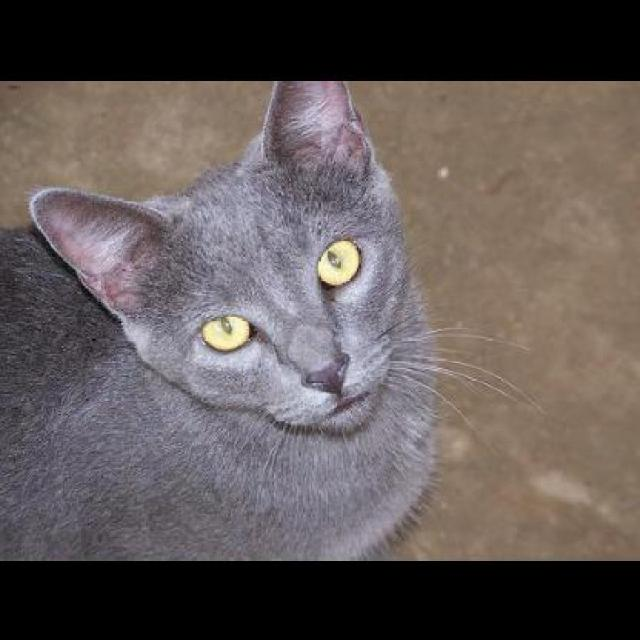unauthorized: (0, 77, 540, 560)
